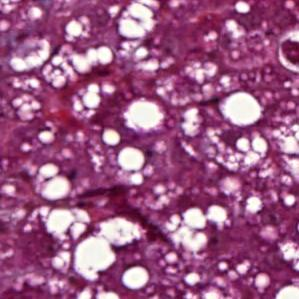ballooning: (29, 202, 151, 284), (181, 88, 272, 180), (29, 160, 75, 203)
